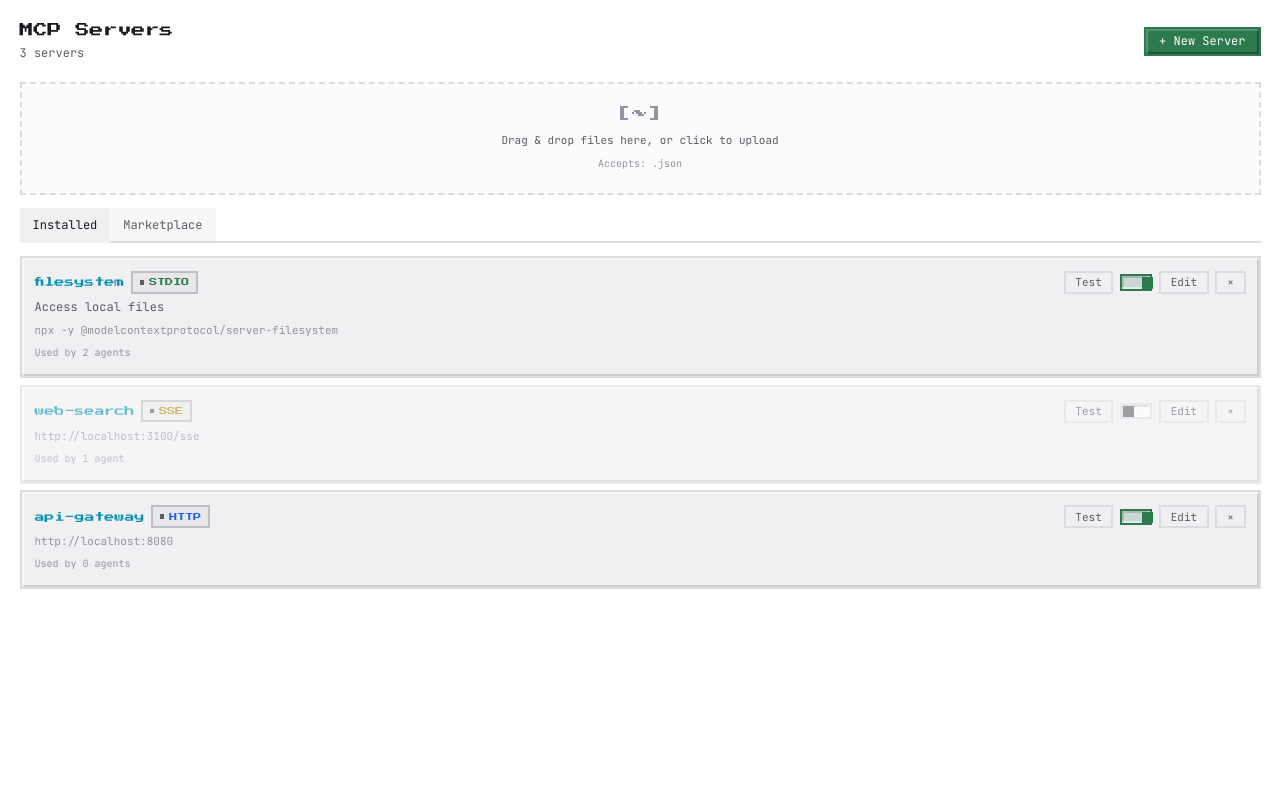
it: MCPServersPage › opens edit modal when clicking Edit
Step 1. Click the button "Edit" in the row of "STDIO" → point(1184, 282), box left=1159, top=271, right=1209, bottom=294
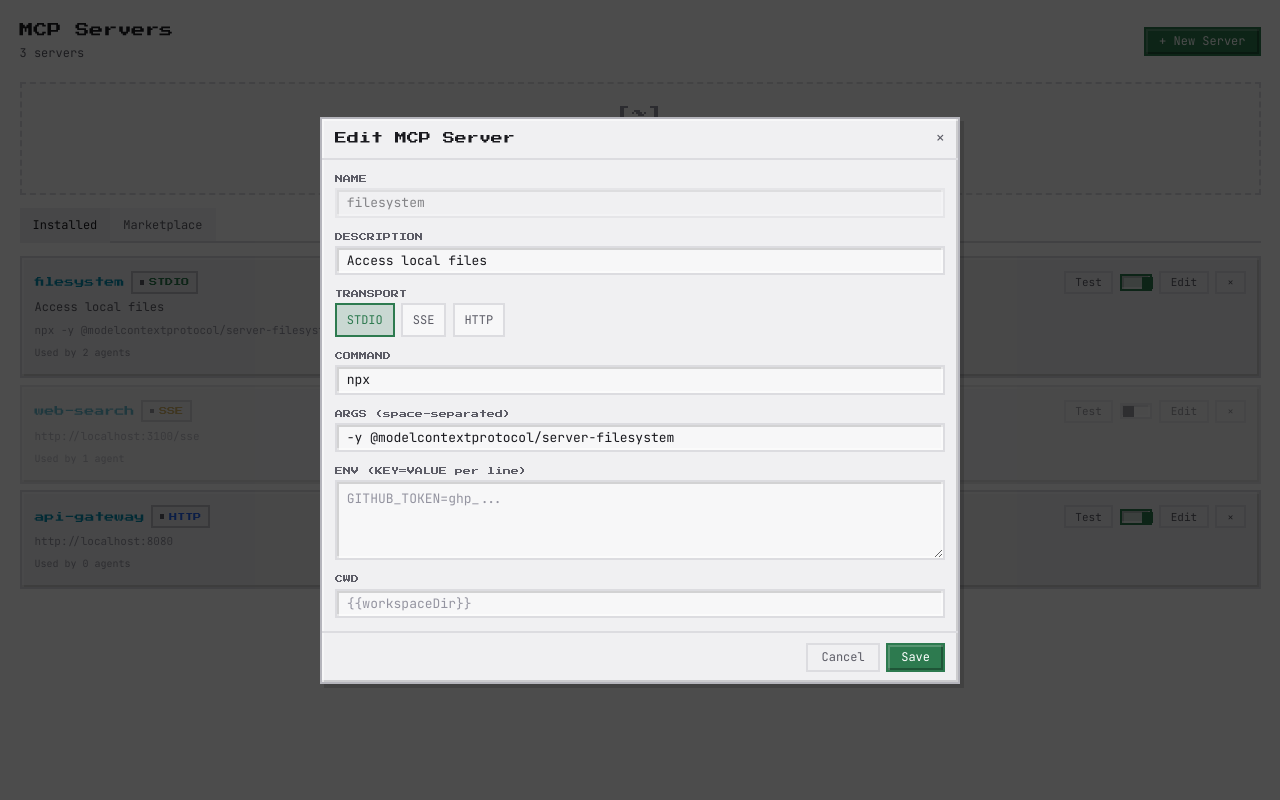
Now the heading "Edit MCP Server" is shown, box left=335, top=128, right=515, bottom=148
